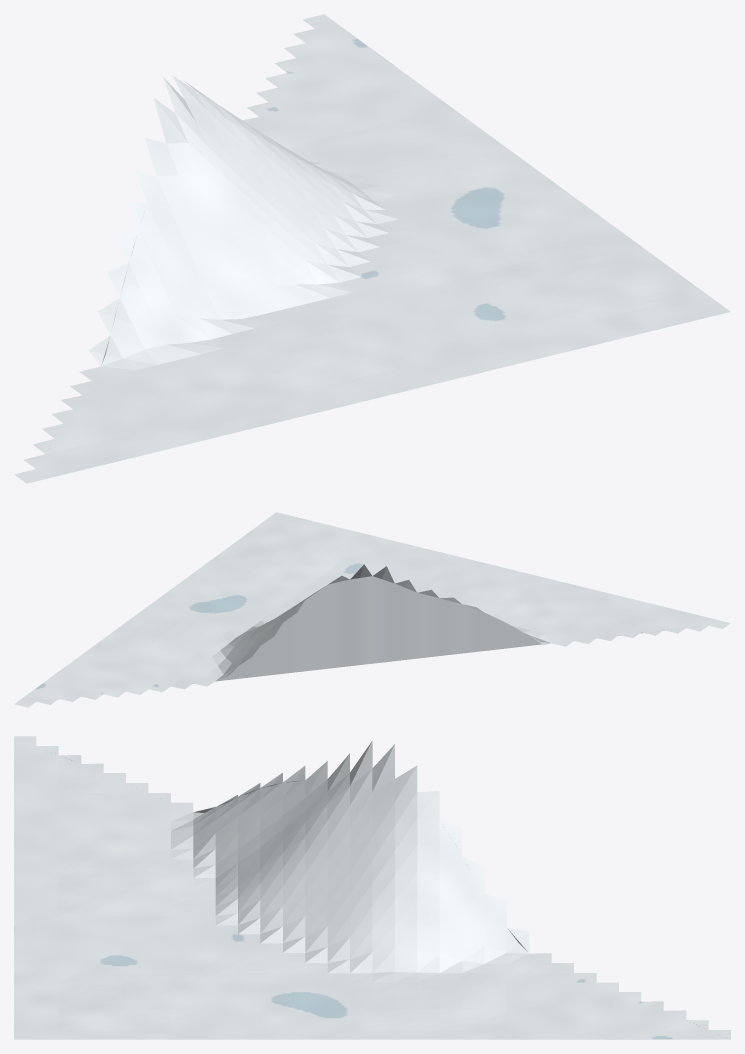
File: Snow_Mountains_01_NE.obj
The picture shows the model from 3 angles, top to bottom: view 1: azimuth 30°, elevation 25°; view 2: azimuth 150°, elevation 25°; view 3: azimuth 270°, elevation 25°; orthographic projection. The views are drawn at different scales.
Bounding box in the file's own units: 10 × 2.22 × 10.
Materials: 1 (1 with a texture image).
